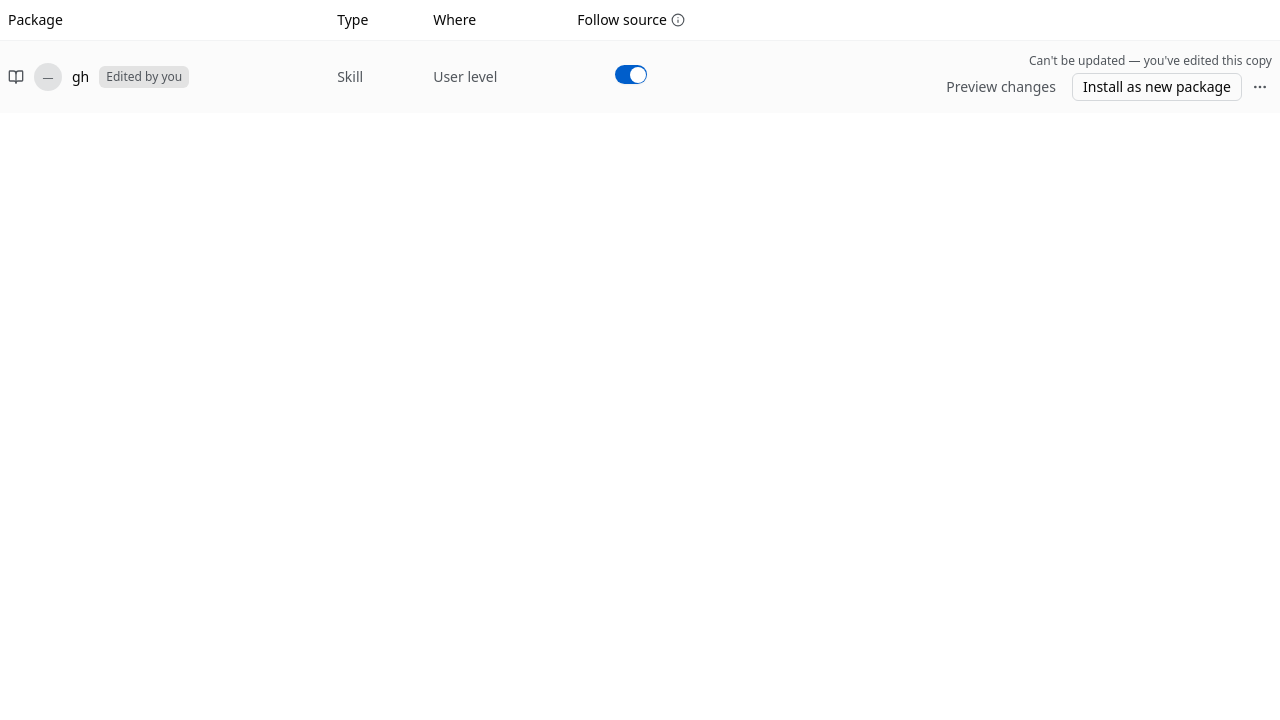
installing beside an edited place, from the row › shows the engine's refusal under the field and keeps the dialog open
Click the button "Install as new package" at (1157, 86), box [1072,72,1242,100]
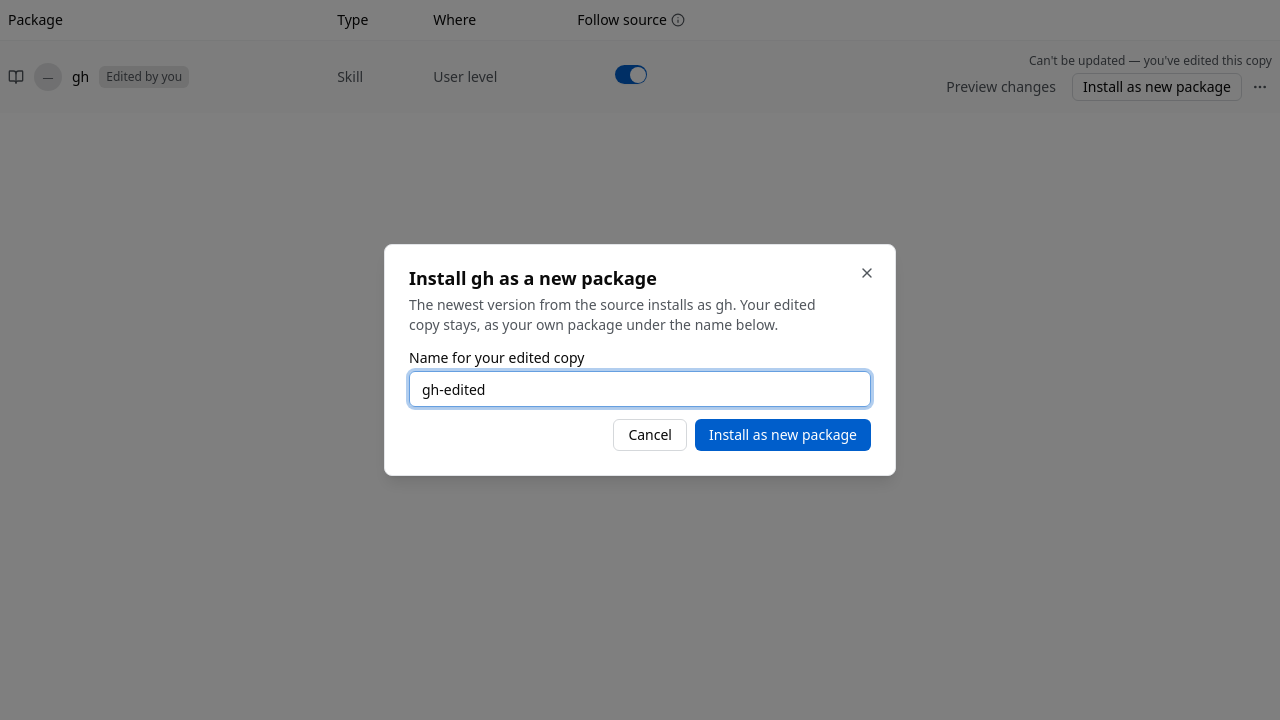
Click the button "Install as new package" at (783, 435), box [695,419,871,451]
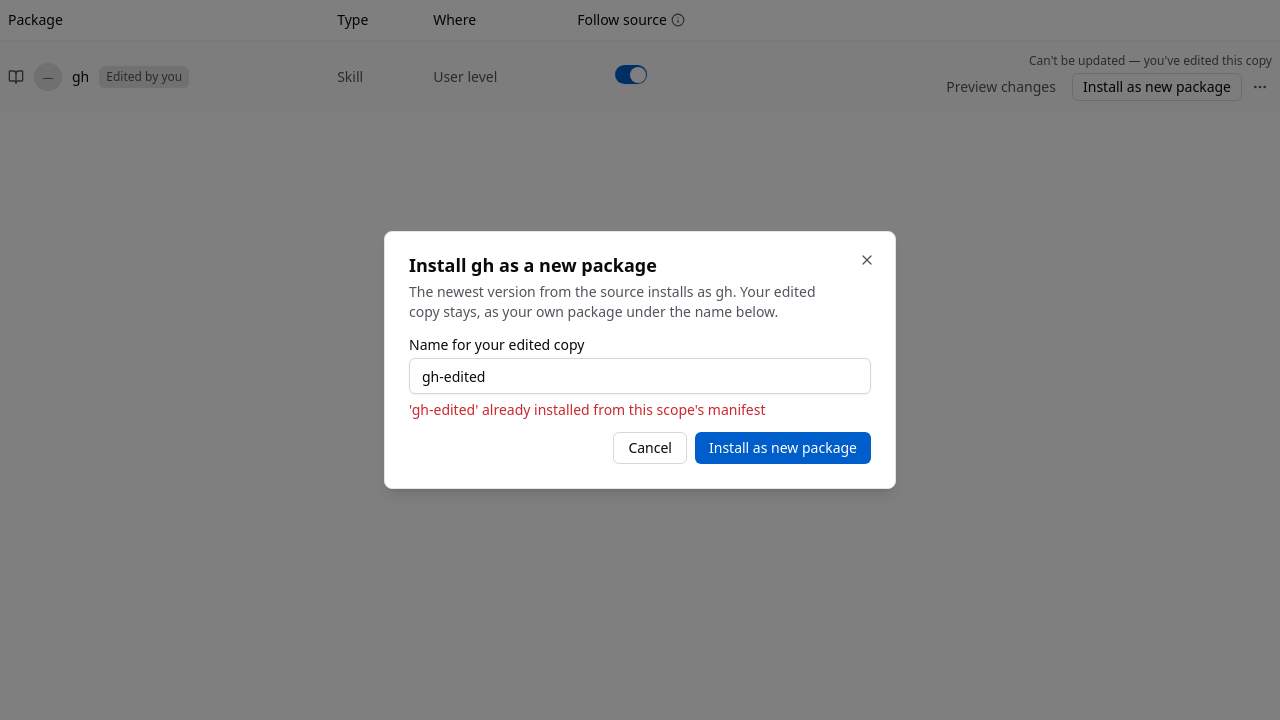
Expected: the dialog is shown, [384,231,896,489]
Expected: the message "'gh-edited' already installed from this scope's manifest" is shown, [409,400,766,419]
Type "2" into the field labelled "Name for your edited copy" at (640, 376), box [409,358,871,394]
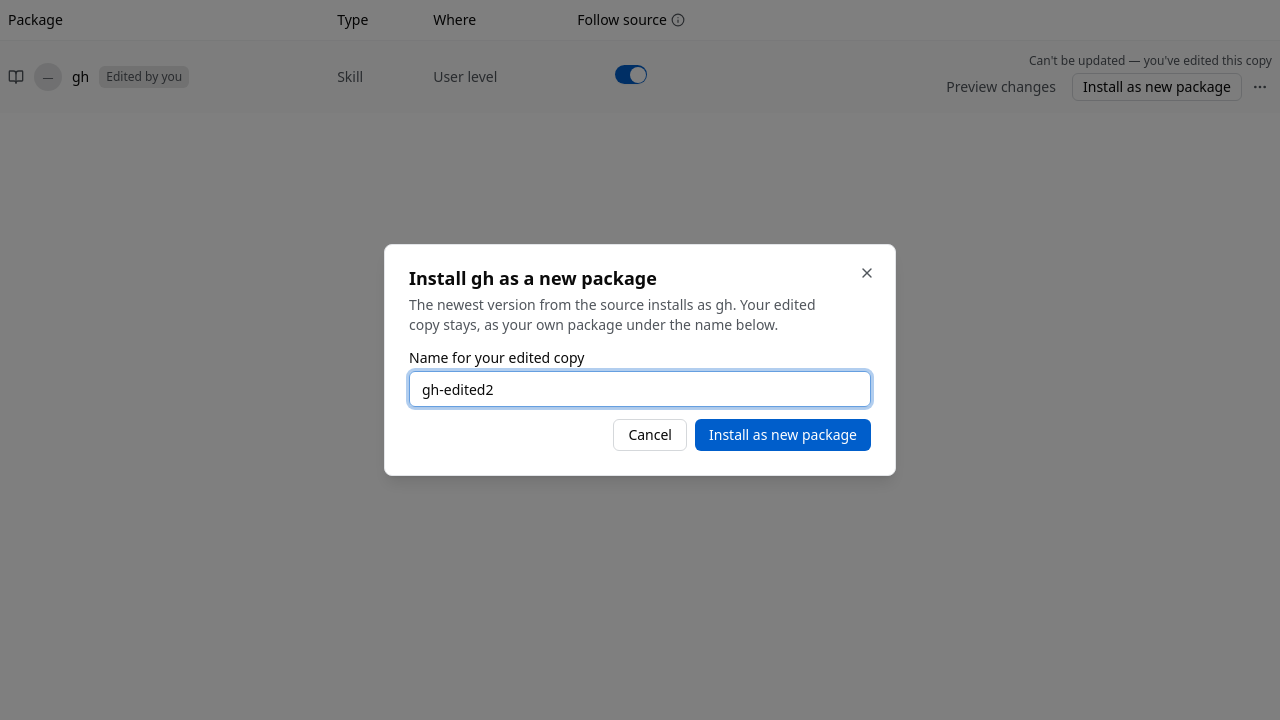
Expected: the message "'gh-edited' already installed from this scope's manifest" is gone
